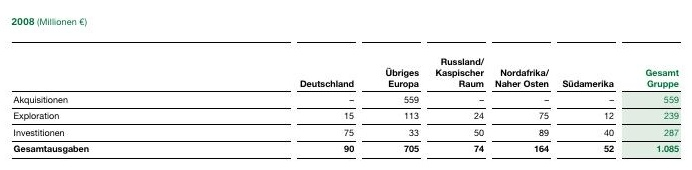table: (0, 0, 692, 170)
